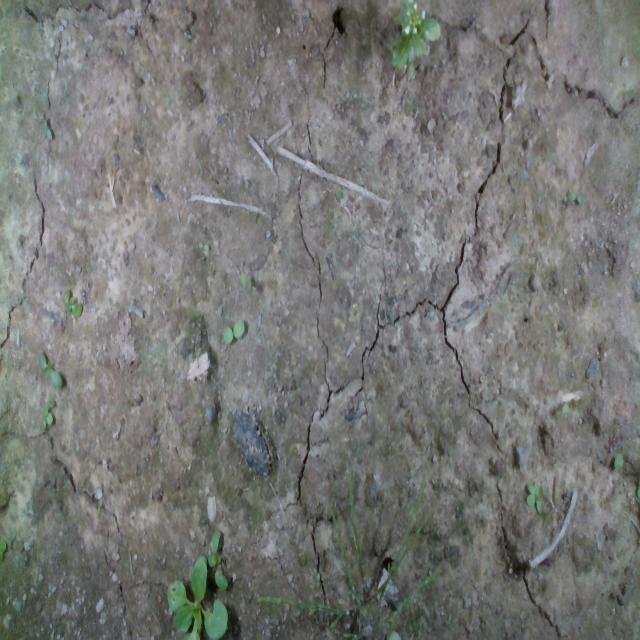weed: (39, 351, 63, 389), (525, 479, 544, 516), (221, 316, 245, 345), (62, 287, 82, 318), (565, 190, 583, 204)
